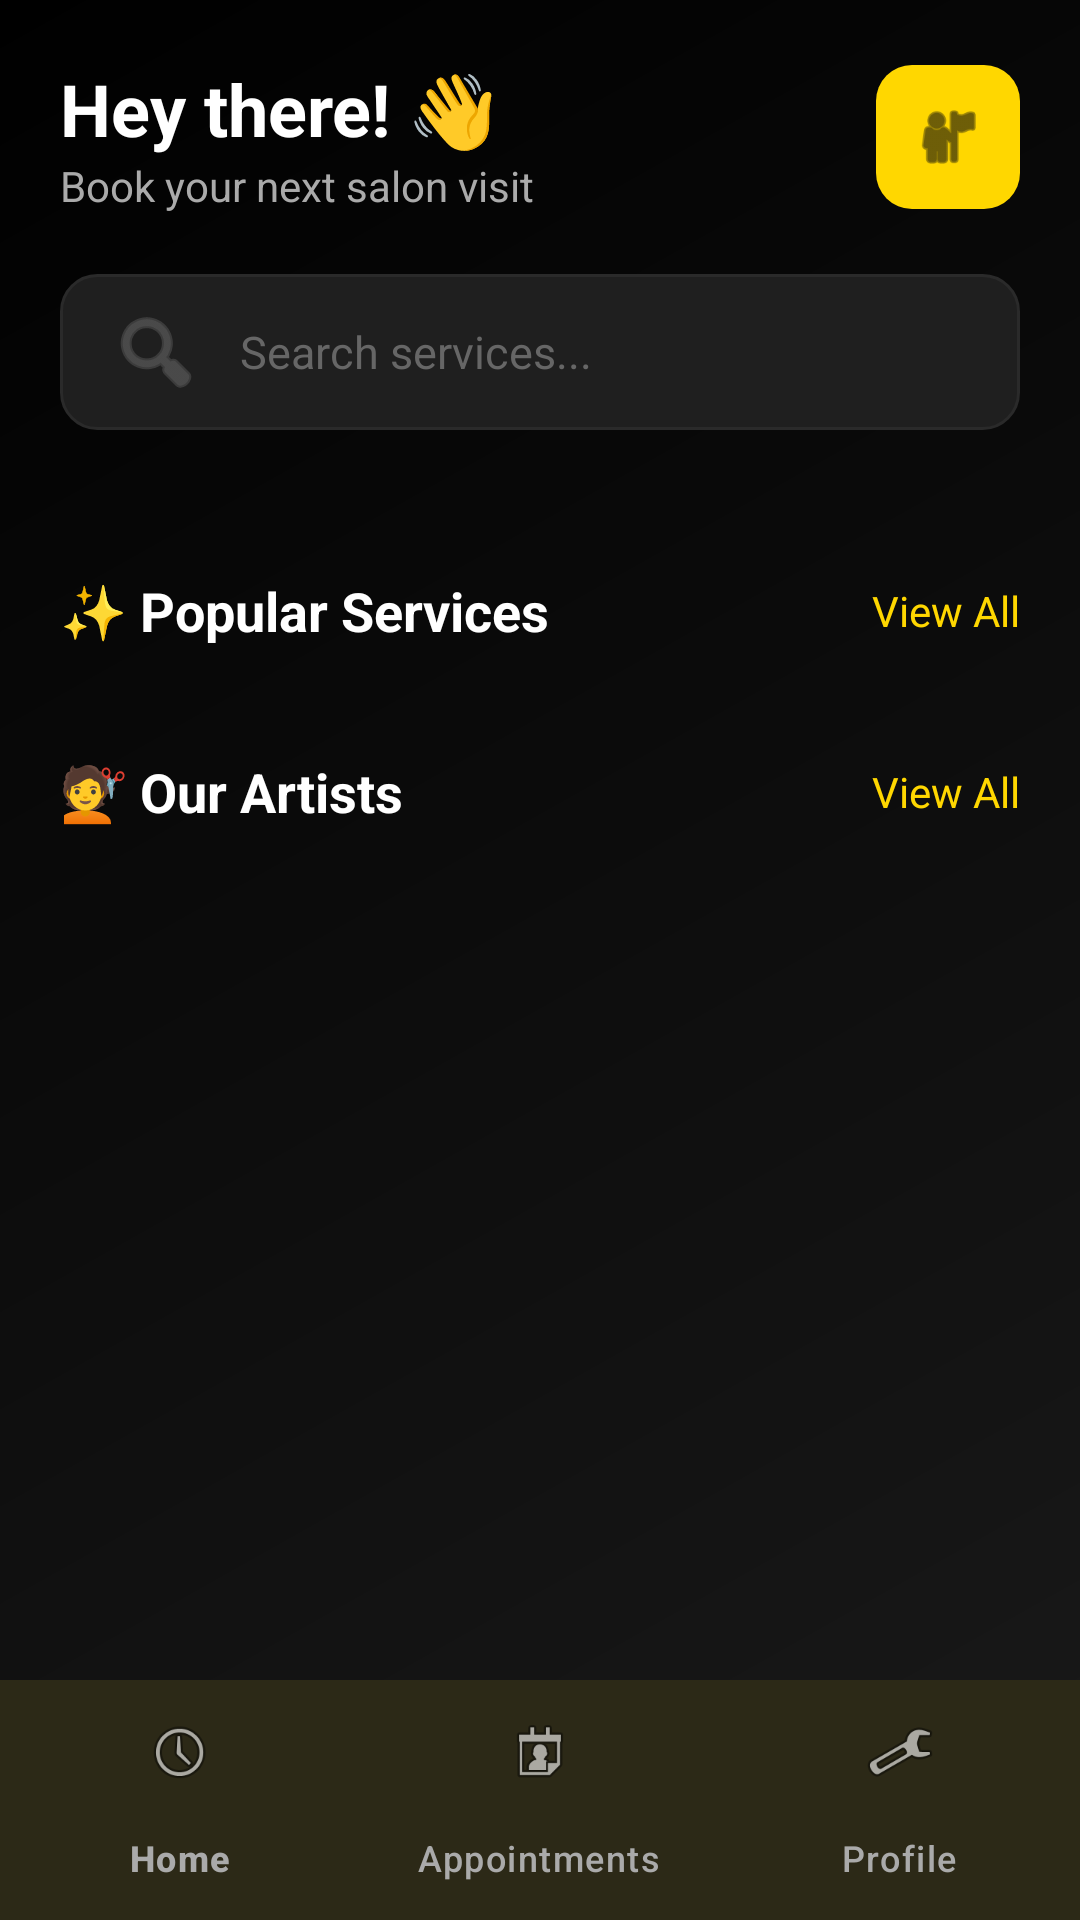

Screen size 1080px×1920px. Icon name, then its box in pixels as {"x1": x1, "y1": y1, "x2": x2, "y2": y2}:
myplaces: {"x1": 922, "y1": 110, "x2": 976, "y2": 164}
